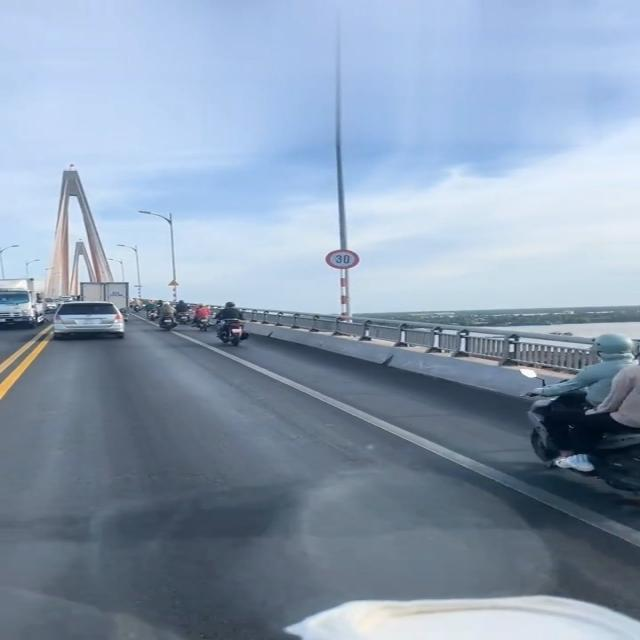127-toc-do-toi-da-30: (324, 250, 360, 270)
